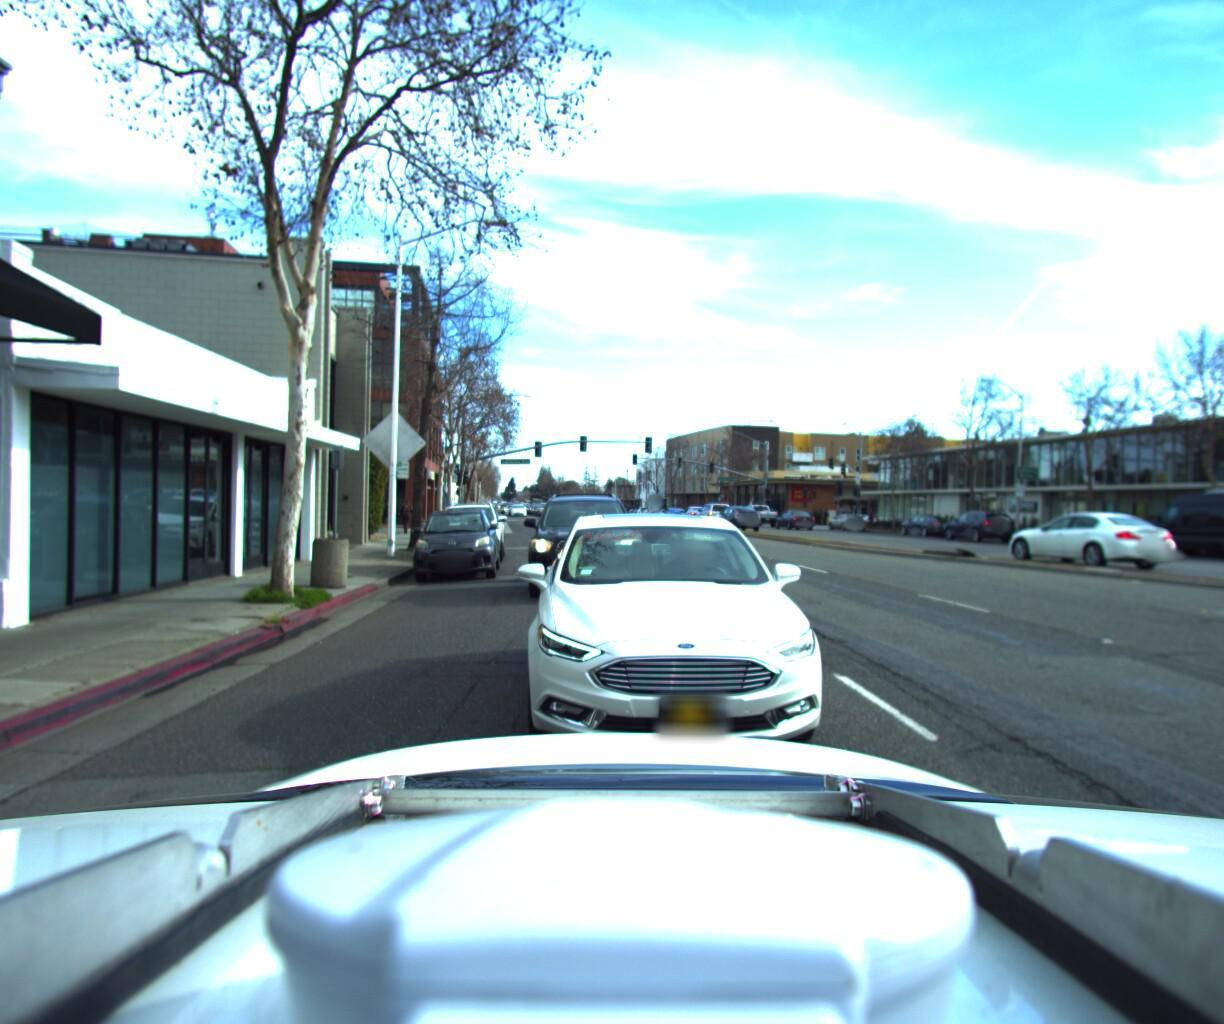car: (498, 503, 861, 814), (528, 486, 642, 600), (986, 503, 1166, 566), (407, 503, 501, 582), (1134, 479, 1224, 559), (427, 496, 506, 558), (1037, 503, 1131, 547), (931, 502, 1008, 536), (895, 507, 957, 535), (713, 497, 763, 524), (691, 498, 734, 522), (775, 500, 817, 522), (827, 508, 871, 528), (674, 497, 713, 519), (654, 498, 689, 517), (744, 499, 779, 518)
